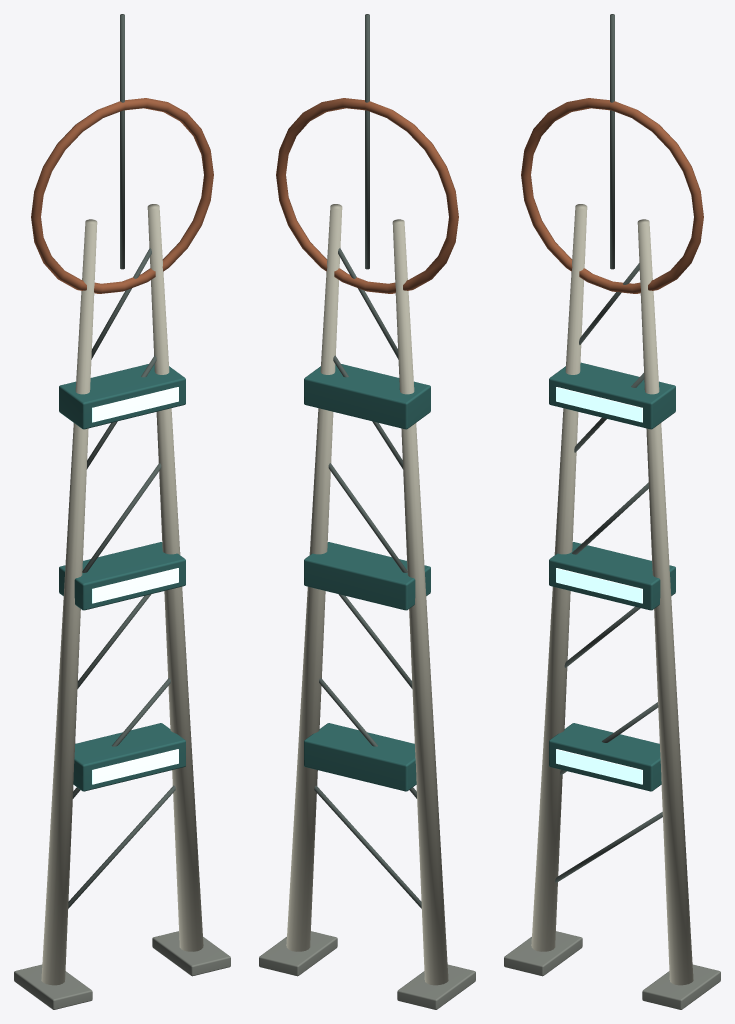
File: relay_mast.glb
3 renders of one model, left to right at view 1: azimuth 30°, elevation 25°; view 2: azimuth 150°, elevation 25°; view 3: azimuth 330°, elevation 25°, orthographic.
Visible parts, largest first — view 1: relay_mast; view 2: relay_mast; view 3: relay_mast.
Part boxes in pixels (x1=…): relay_mast: x1=14, y1=14, x2=230, y2=1009; relay_mast: x1=259, y1=14, x2=475, y2=1009; relay_mast: x1=504, y1=14, x2=720, y2=1009.
Size of the model in its own units: 10.56 by 53 by 4.
